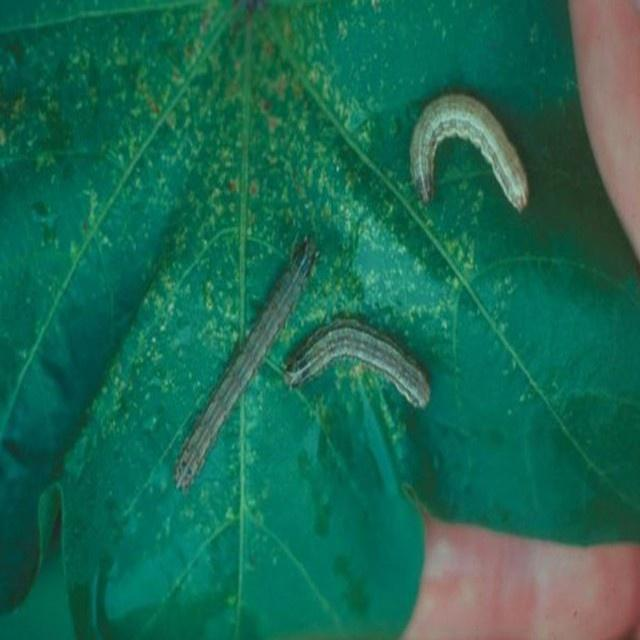gusano_cogollero: (408, 88, 528, 217), (282, 315, 428, 414)
